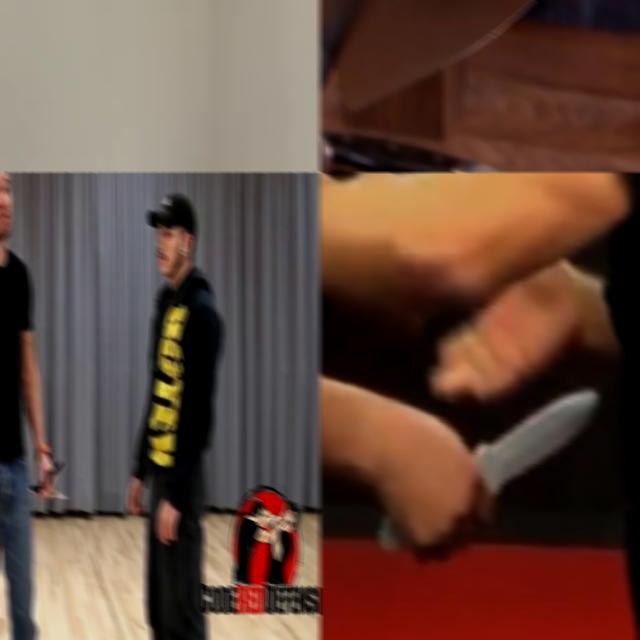Knife: (319, 0, 571, 111), (476, 390, 600, 495), (320, 132, 640, 172)
Knife_Handle: (382, 380, 606, 558), (0, 0, 96, 172), (30, 448, 69, 499)
